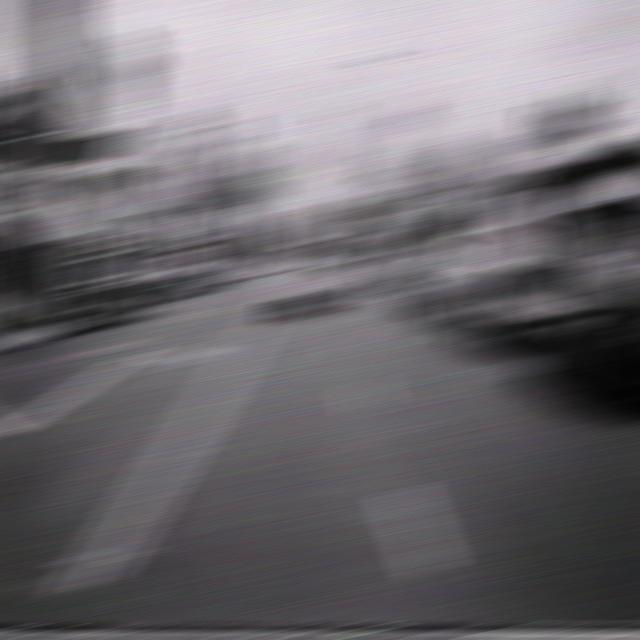pedestrianCrossing: (500, 130, 546, 174)
